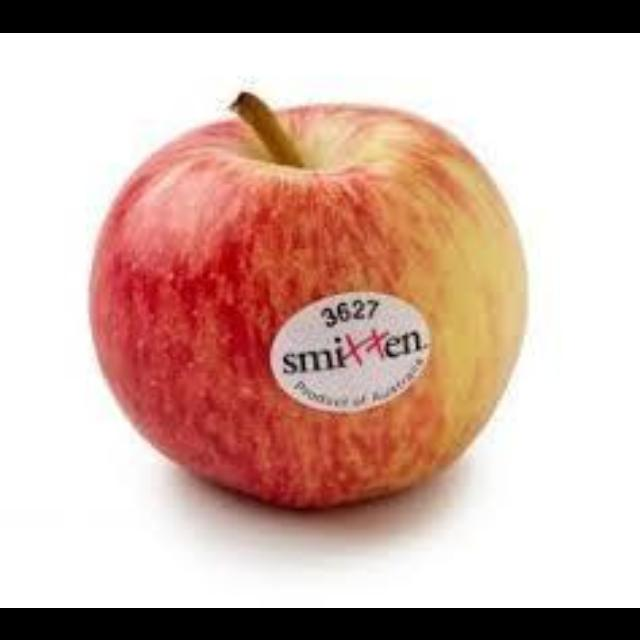apple: (92, 91, 524, 502)
